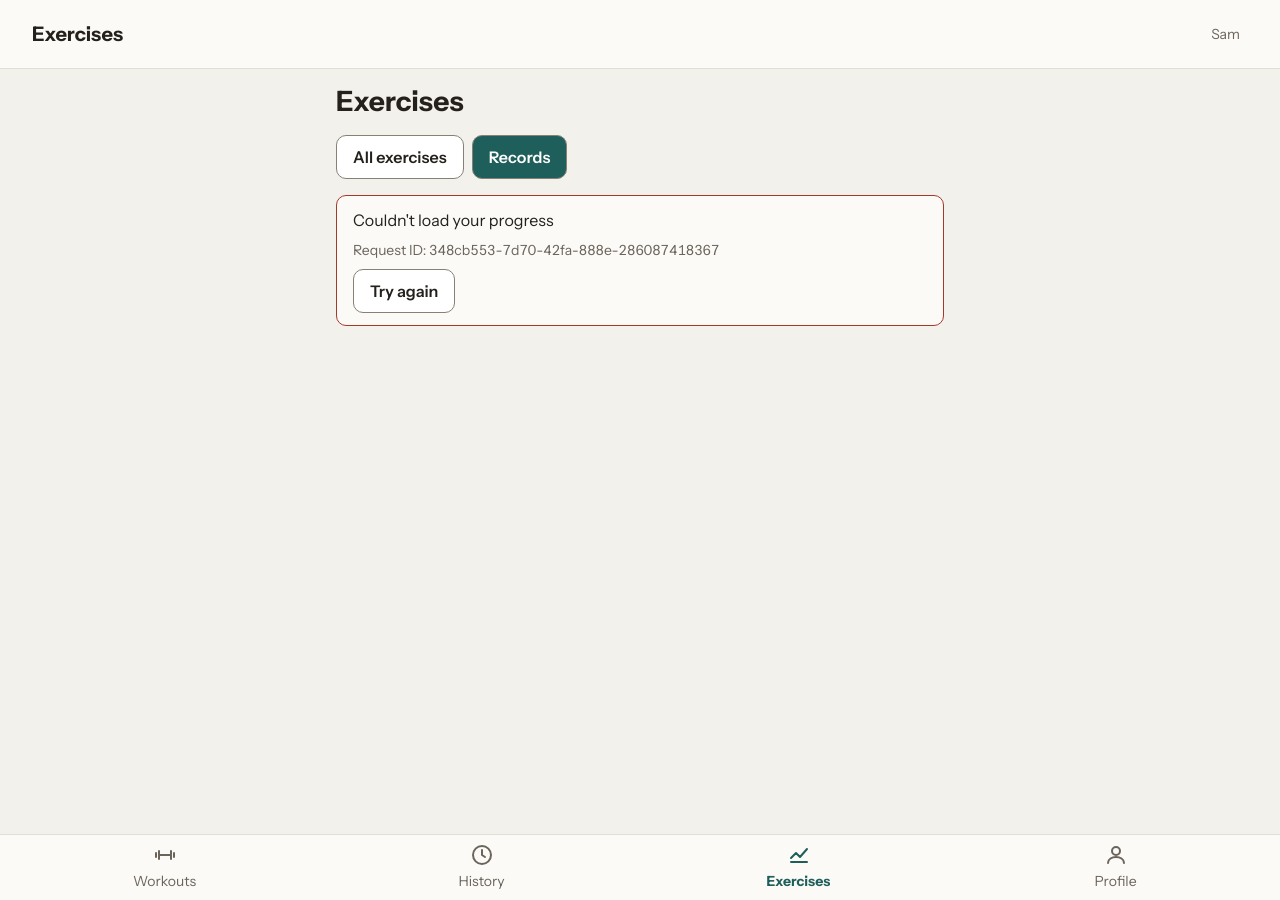
Test: 08.1 AC12 / 18.2 AC6 — list states › a 500 → full notice, Try again refetches
Check: the message shows "Couldn't load your progress", box [353, 210, 554, 230]
Click the button "Try again" at (404, 291), box [353, 269, 455, 313]
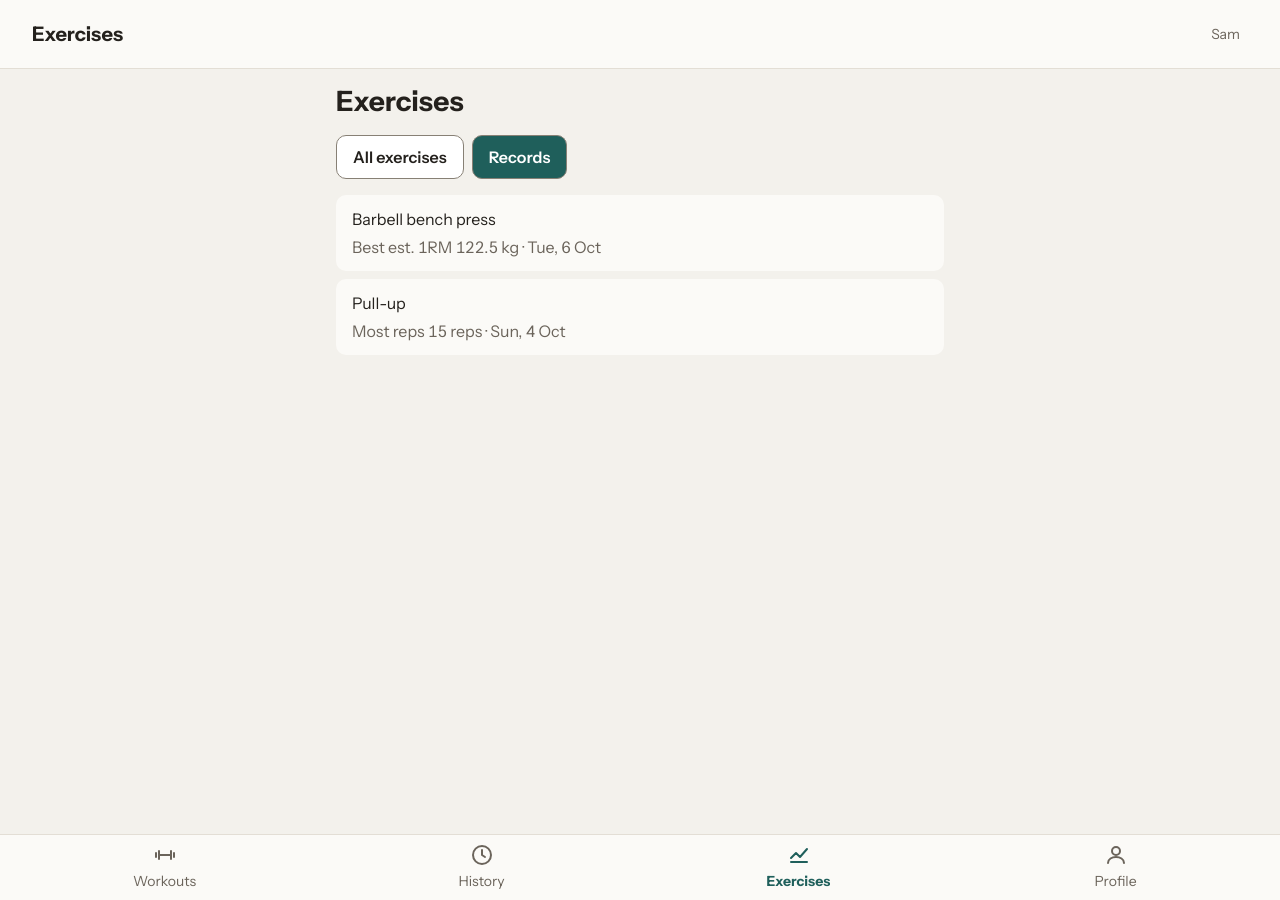
Check: the list named "Exercises" is shown, box [336, 195, 944, 355]
